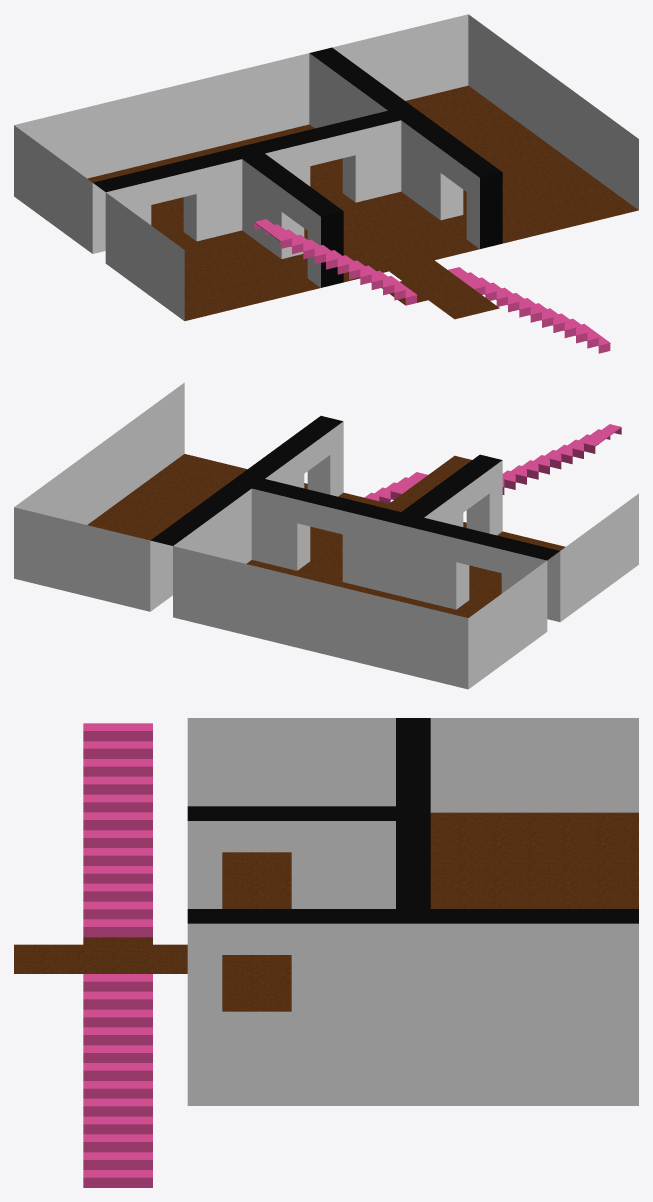
The model's file is house.fbx.
3 views of the same model, one above another, from view 1: azimuth 30°, elevation 25°; view 2: azimuth 150°, elevation 25°; view 3: azimuth 270°, elevation 25° (orthographic). The views are drawn at different scales.
Parts seen in each view (by area): view 1: room3_walls-col, room4_walls-col, room2_walls-col, room4_floor-col, interior-col, room1_walls-col, interior-walls-col, room2_floor-col, room1_floor-col, room3_floor-col, Stairs.003, Stairs.001; view 2: room3_walls-col, interior-walls-col, room4_walls-col, room2_walls-col, interior-col, room4_floor-col, room1_walls-col, Stairs.003, room1_floor-col, room2_floor-col, room3_floor-col, Stairs.001; view 3: room4_walls-col, room3_floor-col, room3_walls-col, room2_walls-col, Stairs.003, Stairs.001, room1_walls-col, interior-col, interior-walls-col, room1_floor-col, room2_floor-col.
Boxes of the visible parts, box(x1,y1,x2,y2) form: room3_walls-col: box(14, 53, 387, 253); room4_walls-col: box(332, 14, 638, 209); room2_walls-col: box(105, 159, 320, 320); room4_floor-col: box(405, 85, 638, 243); interior-col: box(166, 47, 502, 319); room1_walls-col: box(265, 120, 479, 248); interior-walls-col: box(92, 110, 400, 287); room2_floor-col: box(179, 230, 320, 320); room1_floor-col: box(304, 191, 479, 282); room3_floor-col: box(87, 124, 342, 235); Stairs.003: box(254, 219, 417, 305); Stairs.001: box(448, 267, 610, 353); room3_walls-col: box(173, 489, 547, 689); interior-walls-col: box(251, 454, 559, 609); room4_walls-col: box(14, 382, 184, 611); room2_walls-col: box(424, 460, 638, 621); interior-col: box(150, 416, 486, 613); room4_floor-col: box(87, 454, 307, 540); room1_walls-col: box(265, 421, 343, 496); Stairs.003: box(502, 424, 621, 494); room1_floor-col: box(310, 492, 466, 568); room2_floor-col: box(469, 531, 565, 604); room3_floor-col: box(246, 560, 473, 617); Stairs.001: box(364, 472, 427, 503); room4_walls-col: box(187, 923, 638, 1105); room3_floor-col: box(430, 812, 638, 908); room3_walls-col: box(430, 718, 638, 812); room2_walls-col: box(187, 718, 395, 806); Stairs.003: box(83, 723, 152, 937); Stairs.001: box(83, 974, 152, 1187); room1_walls-col: box(187, 821, 395, 908); interior-col: box(14, 900, 638, 1011); interior-walls-col: box(187, 718, 430, 908); room1_floor-col: box(222, 955, 291, 1003); room2_floor-col: box(222, 852, 291, 900).
Size of what is drawn, in the model's own units: 640 by 256 by 576.
